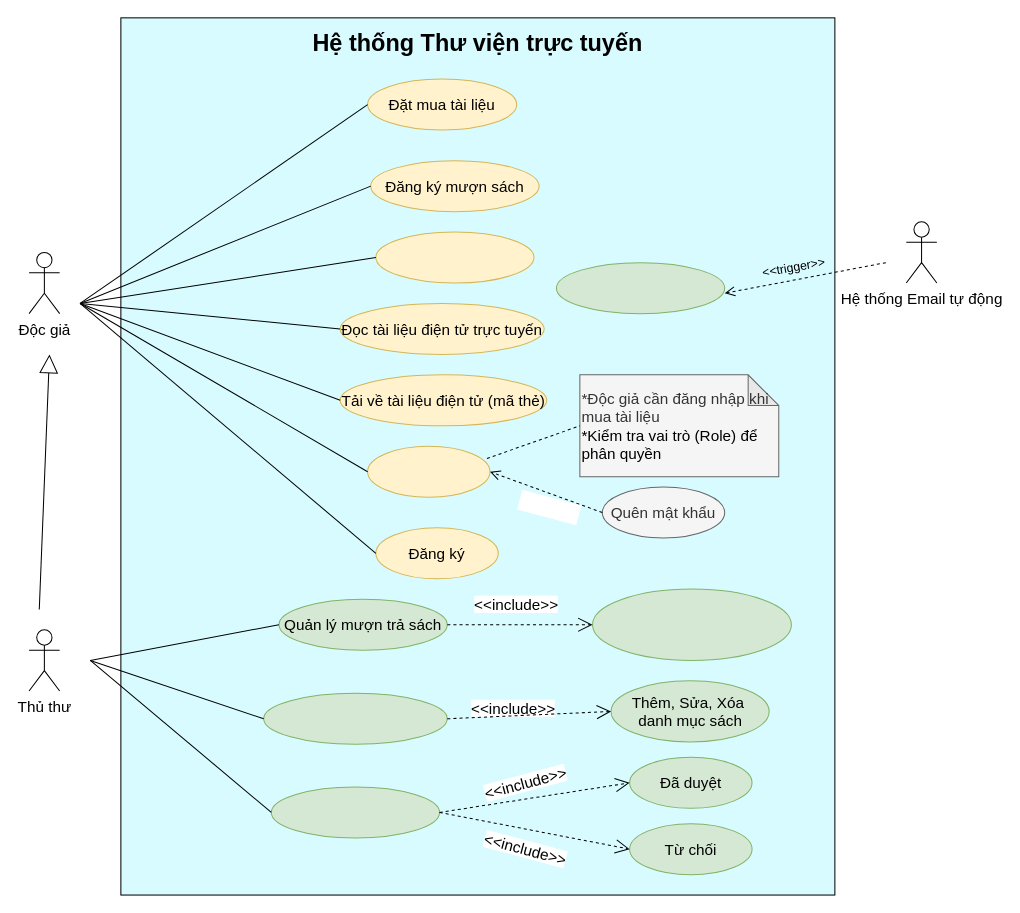
This 1020x913 diagram has some shape labels left out. The shapes that lost their labels are listed below. From the top down, each one's centre as x and y in pixels, then its label:
the point at 454,257: Tìm kiếm tài liệu
the point at 640,288: Gửi email nhắc nhở
the point at 428,471: Đăng nhập
the point at 549,507: <<extend>>
the point at 691,624: Xem/cập nhật trạng thái phiếu mượn/trả sách
the point at 355,718: Cập nhật danh mục sách
the point at 355,812: Duyệt yêu cầu đặt mua
